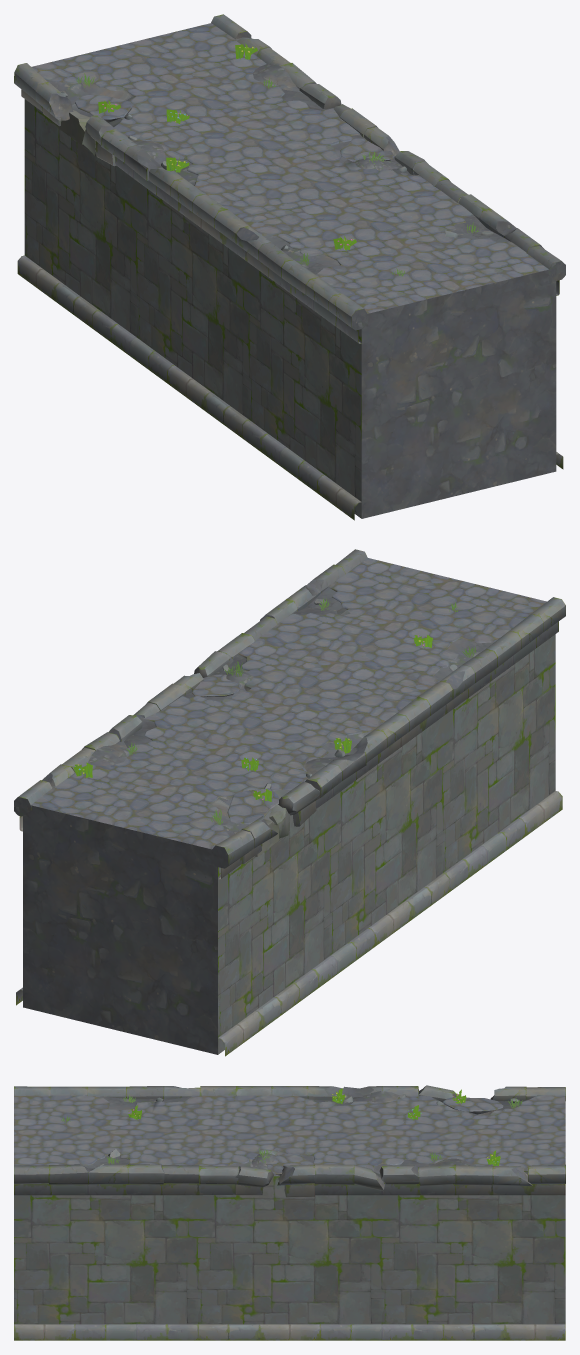
The model's file is Area_MdBuild_SdPlatform01_Group.fbx.
The picture shows the model from 3 angles, top to bottom: view 1: azimuth 30°, elevation 25°; view 2: azimuth 150°, elevation 25°; view 3: azimuth 270°, elevation 25°; orthographic projection. The views are drawn at different scales.
Visible parts, largest first — view 1: Area_MdBuild_SdPlatform01_Lod0; view 2: Area_MdBuild_SdPlatform01_Lod0; view 3: Area_MdBuild_SdPlatform01_Lod0.
Part boxes in pixels (x1,y1,x2,y2): Area_MdBuild_SdPlatform01_Lod0: [14, 14, 565, 520]; Area_MdBuild_SdPlatform01_Lod0: [14, 549, 565, 1056]; Area_MdBuild_SdPlatform01_Lod0: [14, 1085, 565, 1340].
Size of the model in its own units: 11.36 by 10.75 by 30.02.
7 materials, 7 textured.
